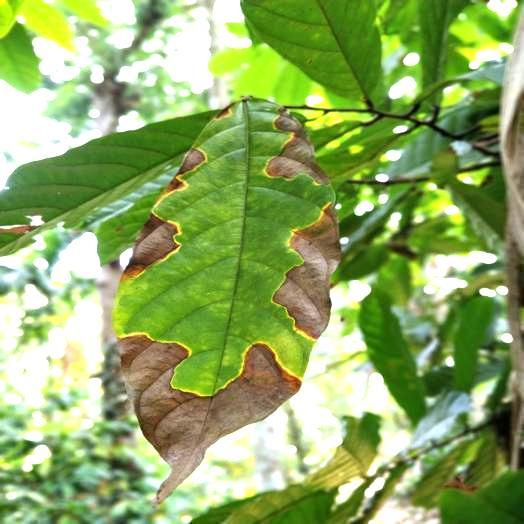Potassium: (114, 98, 339, 501)
